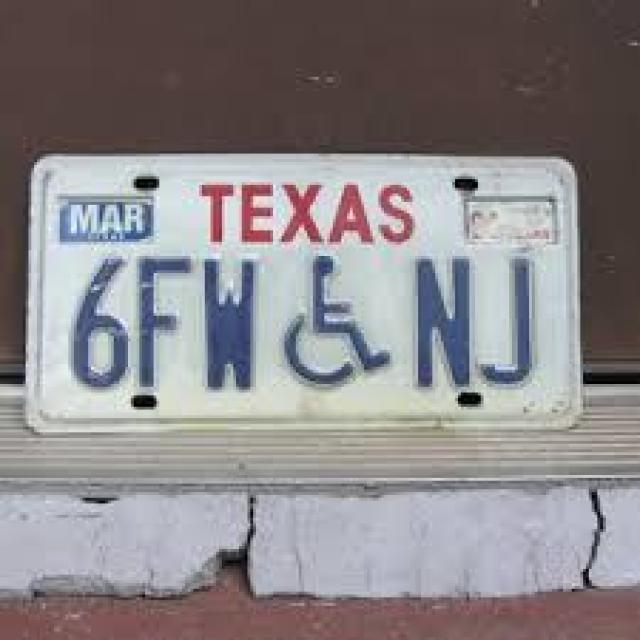car-handicap-placard: (284, 258, 390, 390)
